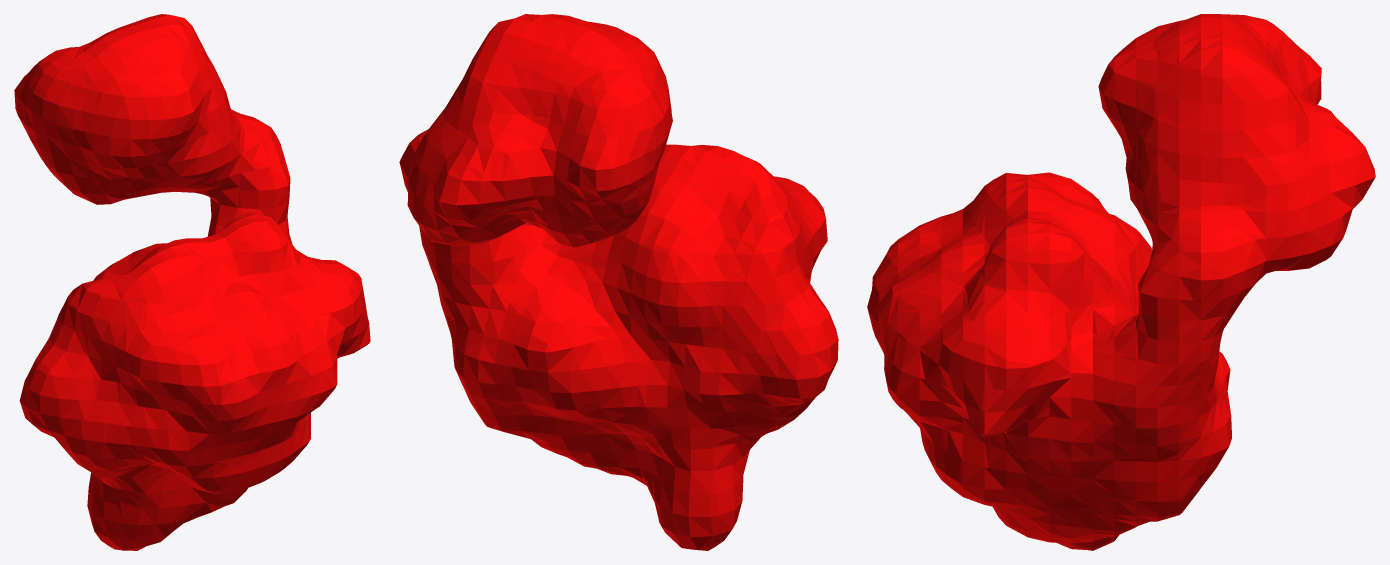
Rendered from yheO_coarse.dae.
3 views of the same model, side by side, from view 1: azimuth 30°, elevation 25°; view 2: azimuth 150°, elevation 25°; view 3: azimuth 270°, elevation 25° (orthographic). The views are drawn at different scales.
Visible parts, largest first — view 1: yheO; view 2: yheO; view 3: yheO.
Boxes of the visible parts, x1=… form: yheO: x1=14, y1=14, x2=370, y2=550; yheO: x1=399, y1=14, x2=838, y2=550; yheO: x1=867, y1=14, x2=1375, y2=550.
Bounding box in the file's own units: 49.26 × 71.92 × 59.07.
